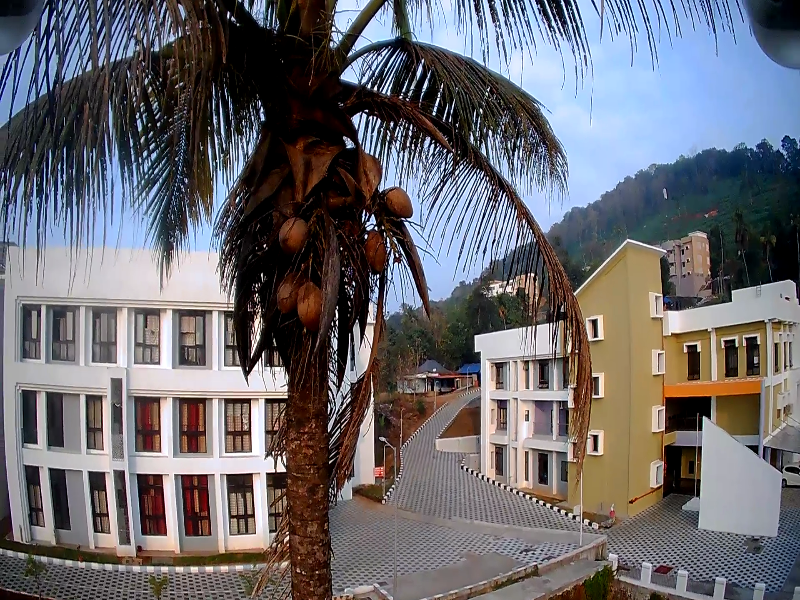coconut: (297, 276, 322, 324), (376, 186, 409, 219), (282, 216, 307, 251), (271, 274, 293, 311), (363, 232, 384, 268)
